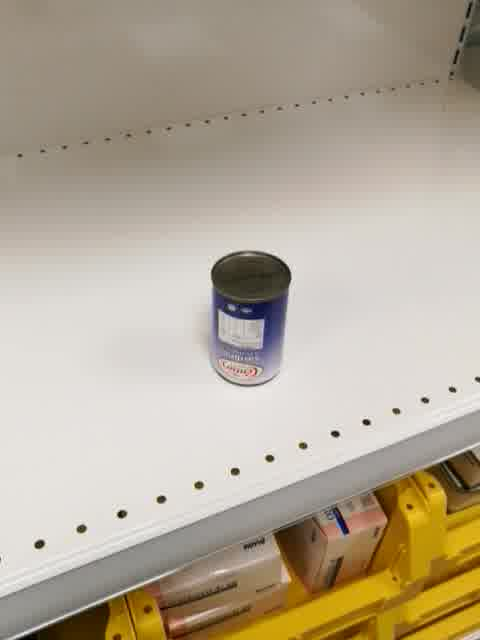sardine: (209, 250, 292, 388)
